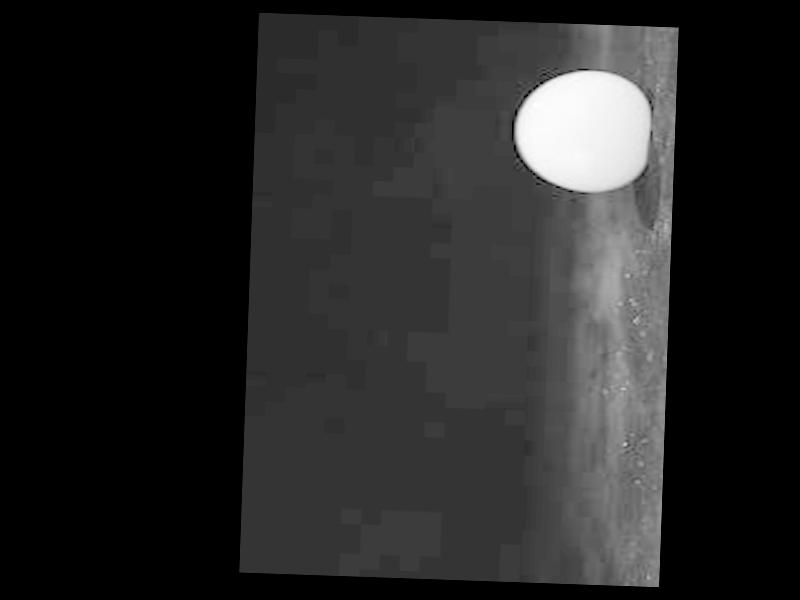Eggs: (513, 68, 649, 194)
